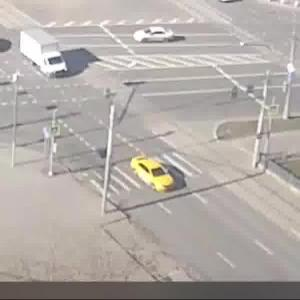car: (17, 28, 80, 86), (126, 155, 176, 199), (128, 24, 191, 49)
